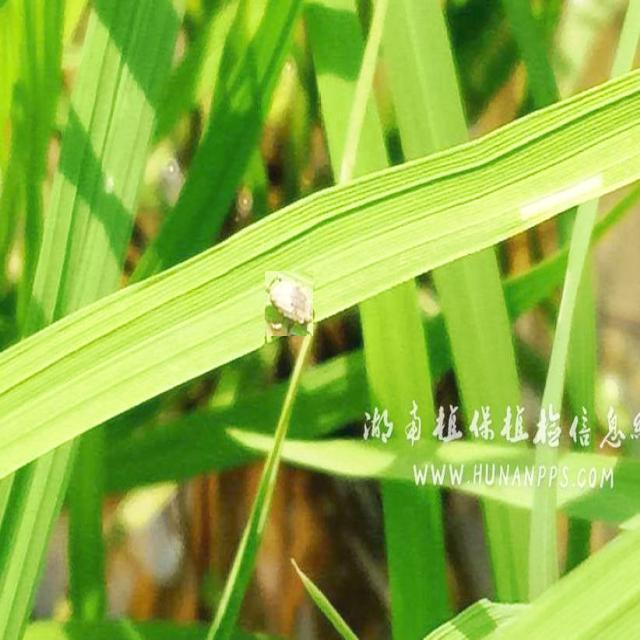rice-bug: (265, 271, 313, 336)
